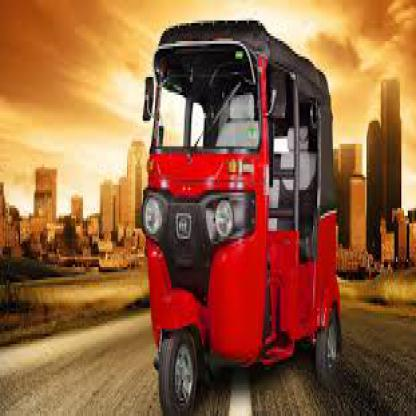tuk: (143, 21, 348, 414)
